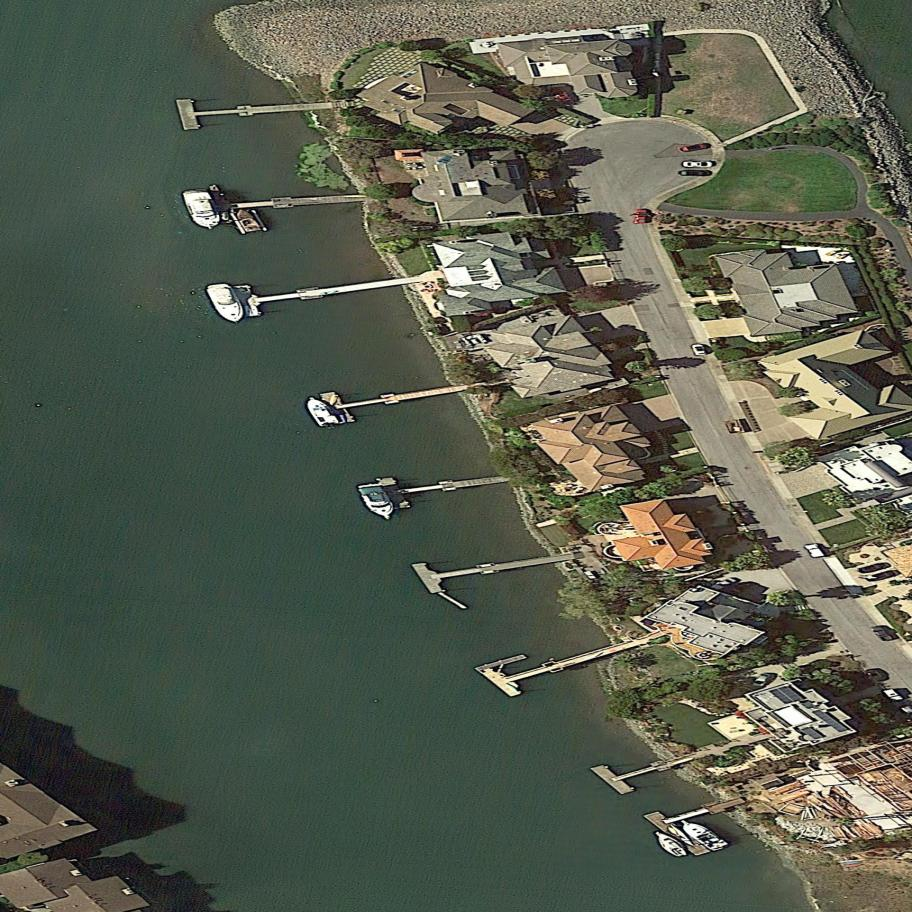ship: (672, 809, 733, 859), (179, 180, 226, 240), (204, 274, 251, 334), (354, 474, 400, 531), (646, 824, 692, 865), (301, 389, 340, 433), (233, 203, 263, 237)
small-vehicle: (547, 80, 576, 112), (869, 619, 898, 648), (864, 661, 890, 687), (866, 567, 901, 584), (856, 560, 893, 575), (803, 539, 825, 563), (752, 669, 773, 692), (882, 685, 905, 706), (678, 142, 710, 154), (690, 340, 708, 360), (634, 208, 648, 225), (683, 161, 715, 168), (679, 170, 714, 176)
